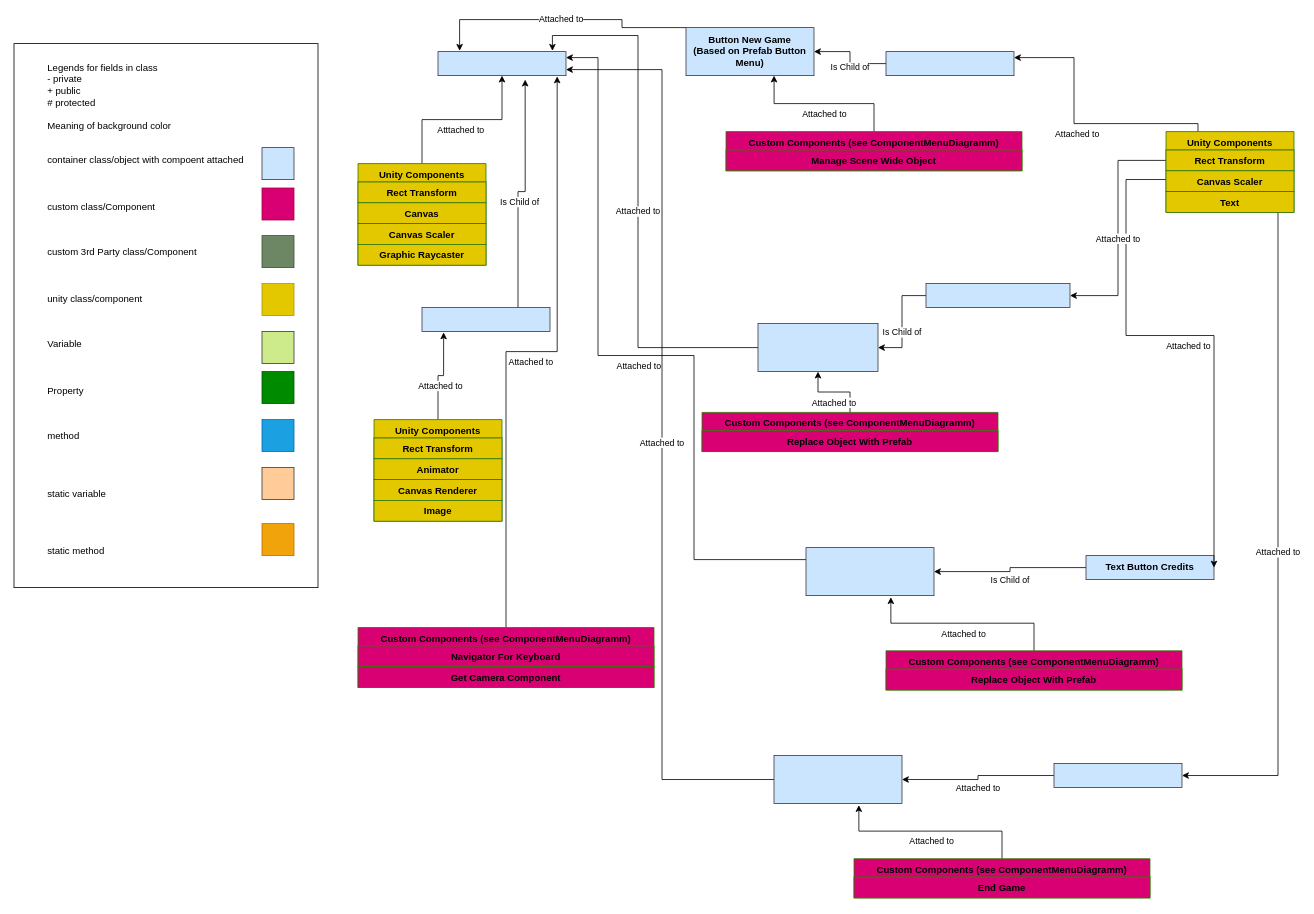
Image size: 1314x914. Some labels were removed from this diagram. The box of each missing label's shape, as (x1, y1, x2, y2) in pixels:
Button Control Manuel (Based on Prefab Button Menu): (757, 323, 878, 372)
Button Credits (Based on Prefab Button Menu): (805, 547, 934, 596)
Button Quit (Based on Prefab Button Menu): (773, 755, 902, 804)
Main Menu Buttons: (437, 51, 566, 76)
Menue Title Screen: (421, 307, 550, 332)
Text Button Control Manuel: (925, 283, 1070, 308)
Text Button New Game: (885, 51, 1014, 76)
Text Button Quit: (1053, 763, 1182, 788)
